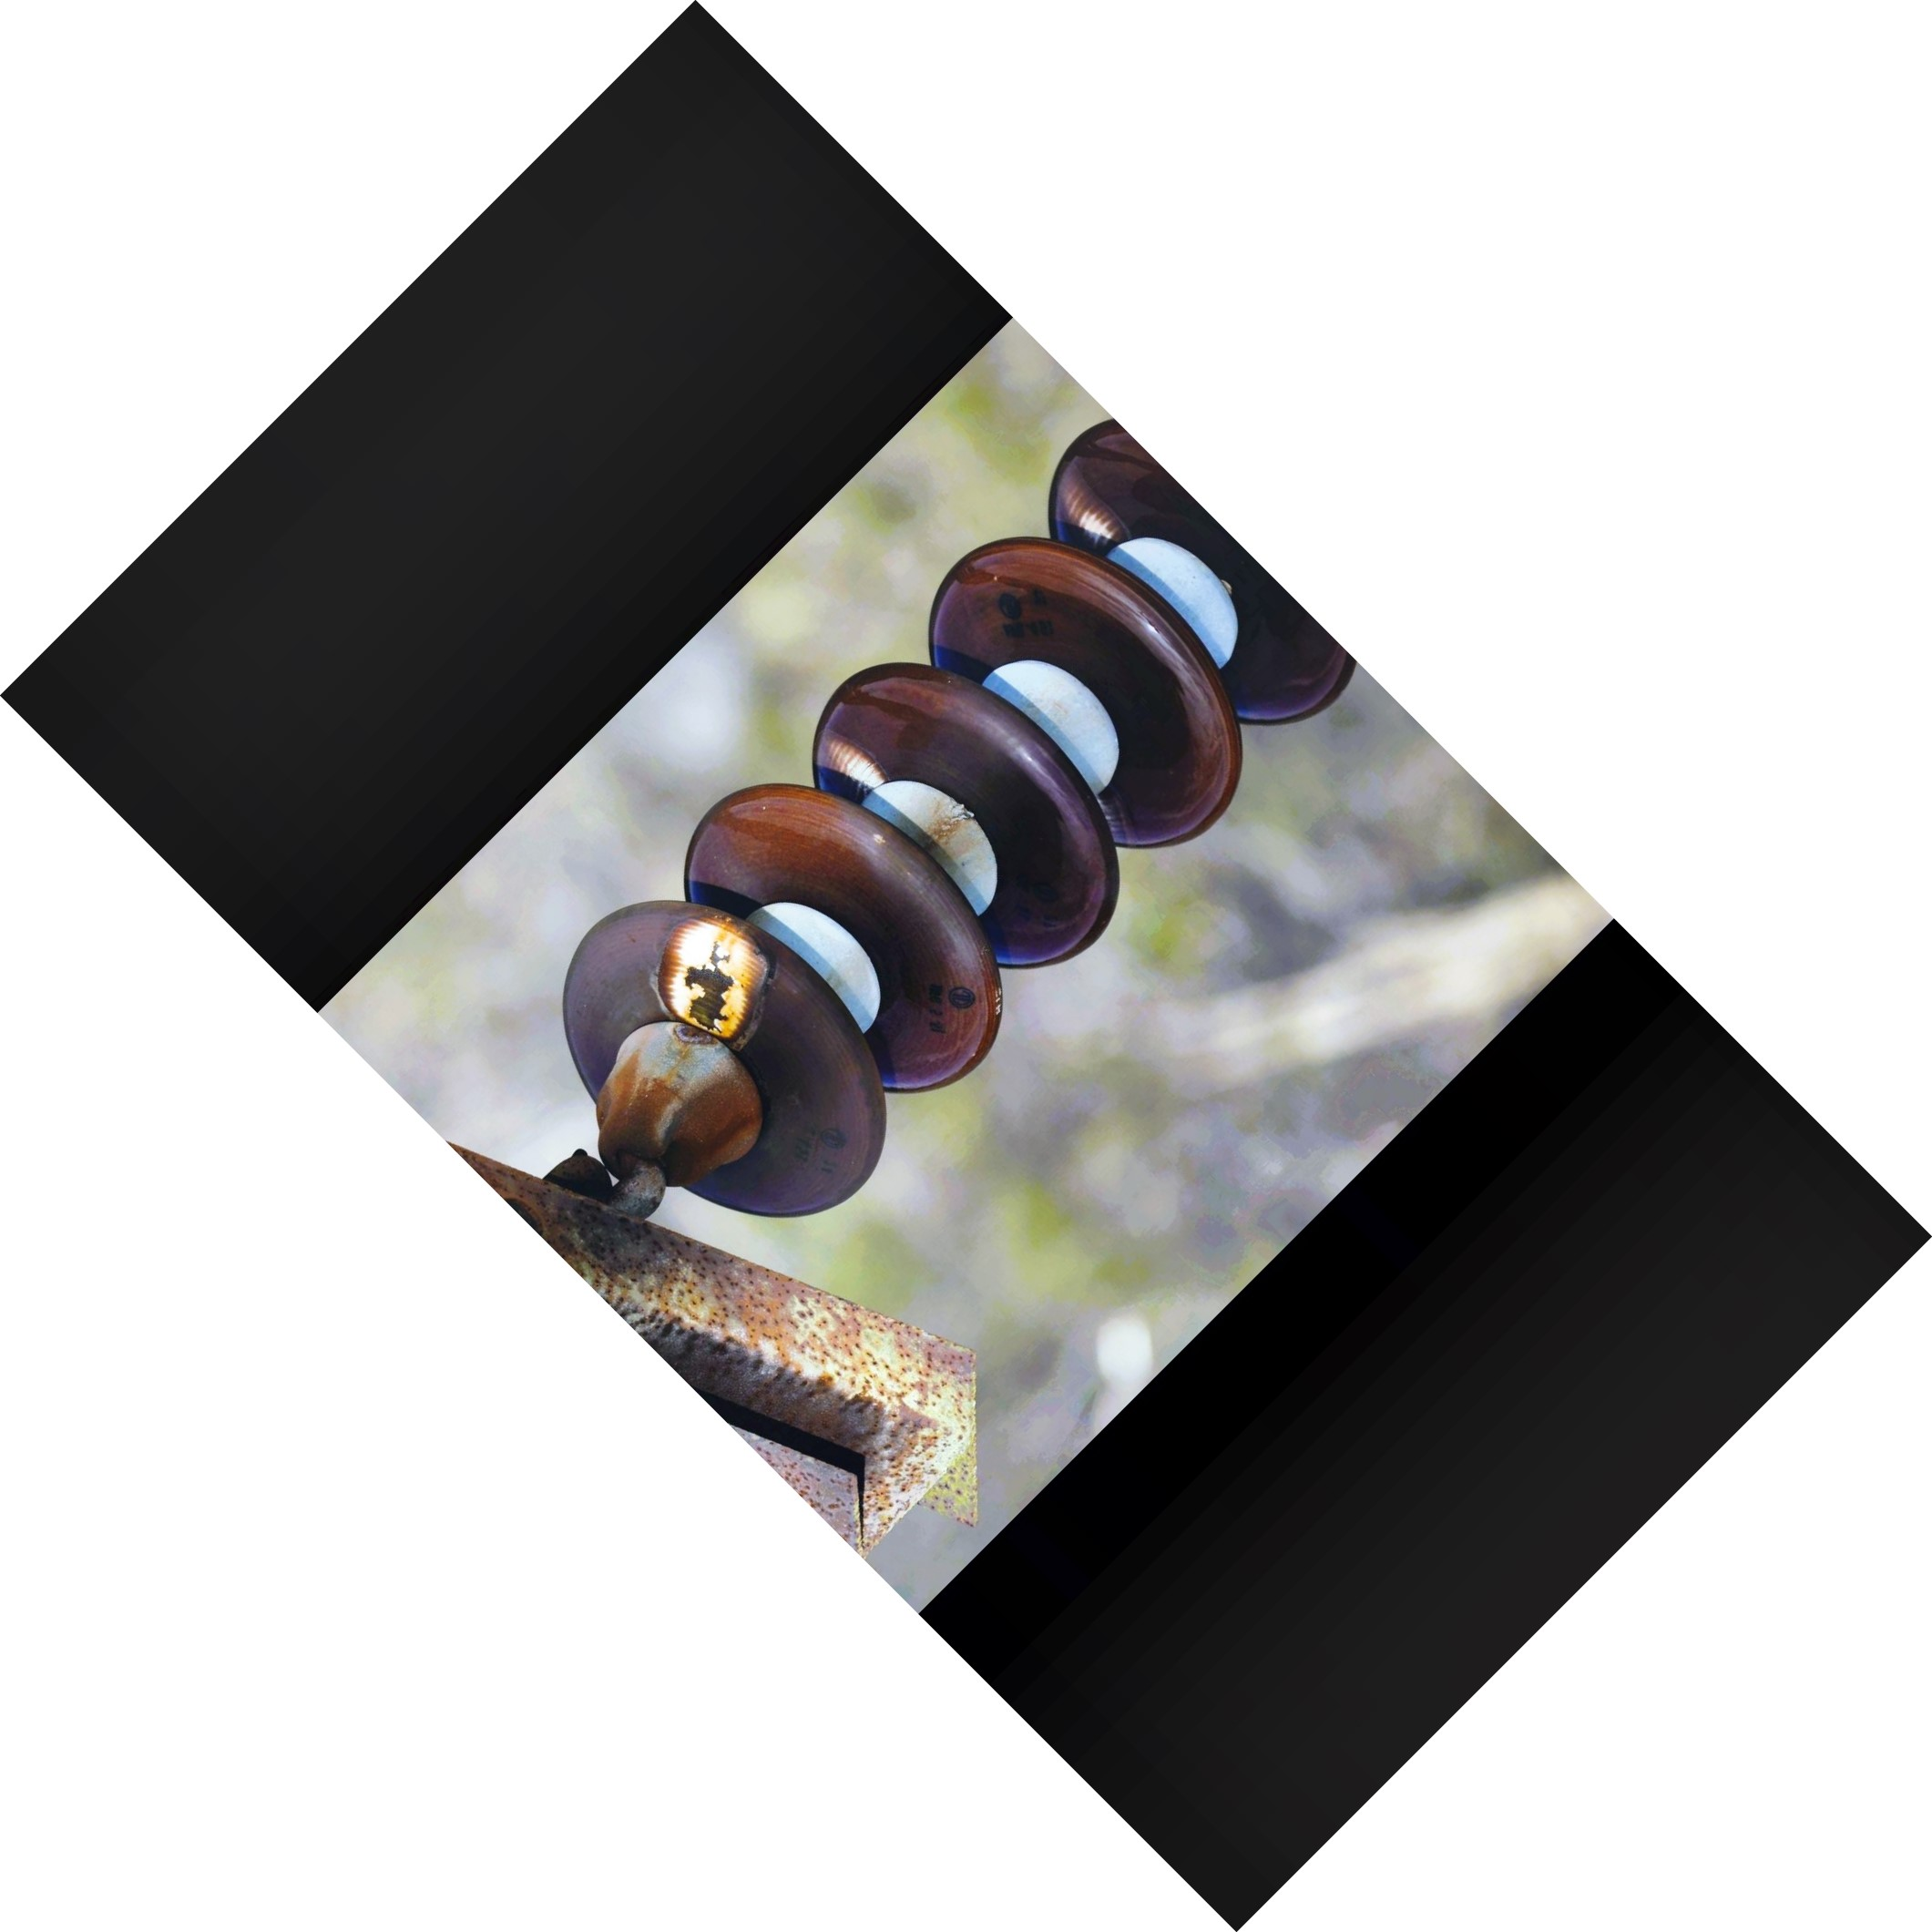Insulator flashover: (552, 872, 892, 1246)
